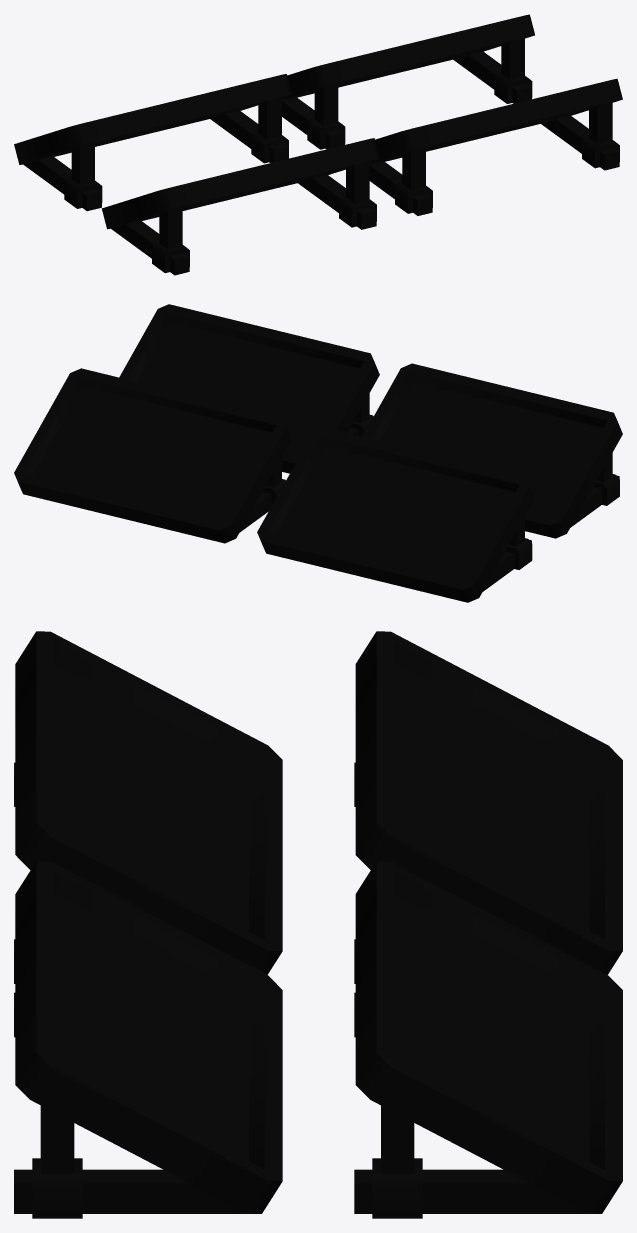
Rendered from solar-panel-landscape-group.glb.
The picture shows the model from 3 angles, top to bottom: view 1: azimuth 30°, elevation 25°; view 2: azimuth 150°, elevation 25°; view 3: azimuth 270°, elevation 25°; orthographic projection. The views are drawn at different scales.
Visible parts, largest first — view 1: solar-panel-landscape-group; view 2: solar-panel-landscape-group; view 3: solar-panel-landscape-group.
Boxes of the visible parts, <box> form: solar-panel-landscape-group: <box>14,14,622,275</box>; solar-panel-landscape-group: <box>14,304,622,602</box>; solar-panel-landscape-group: <box>14,631,622,1218</box>.
Size of the model in its own units: 1.51 by 0.2623 by 0.895.
Materials: 1 (1 with a texture image).
